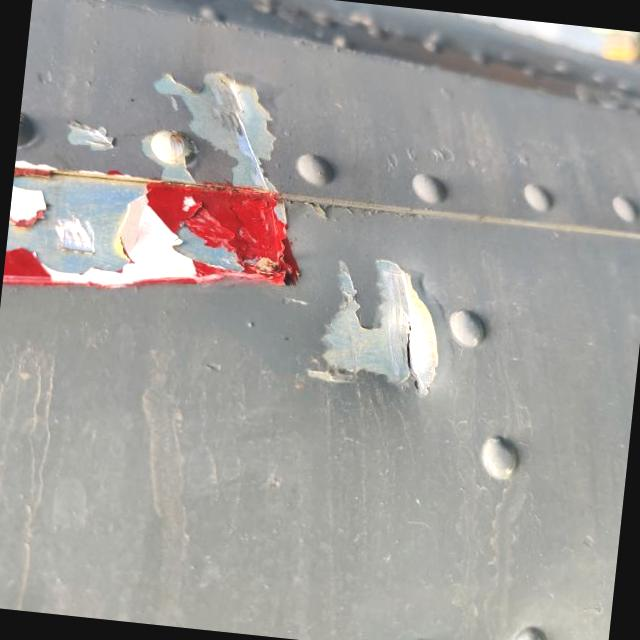crack: (376, 300, 448, 400)
paint-off: (1, 43, 328, 326), (306, 250, 455, 404)
